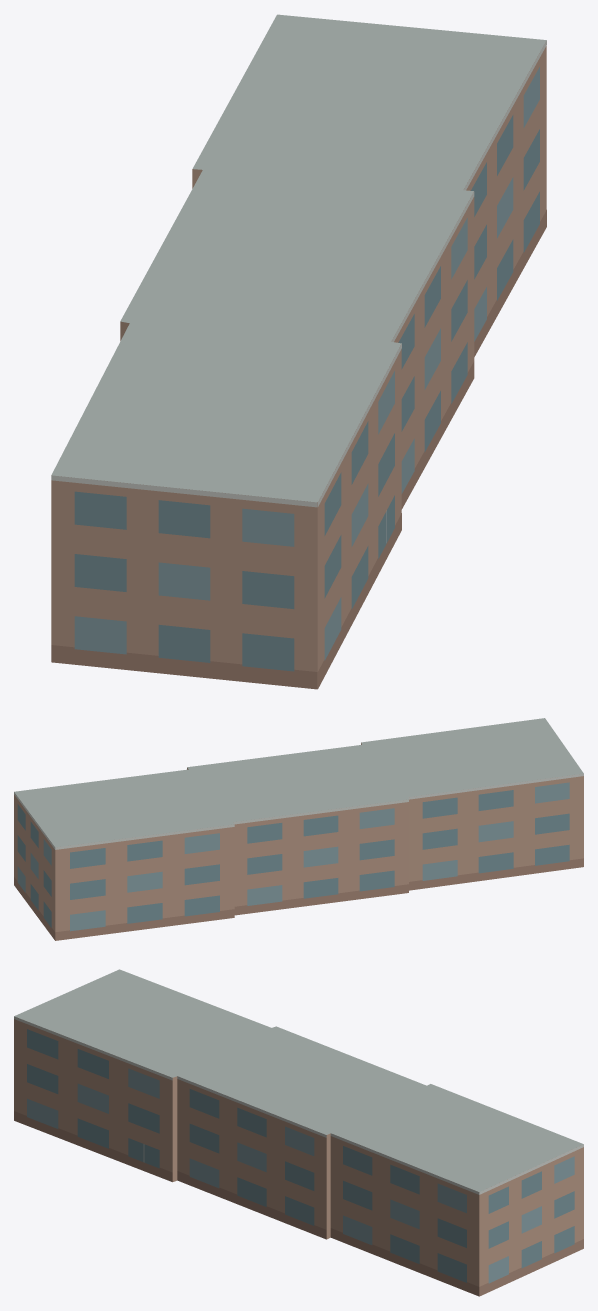
The model's file is survey-upis-32662381.glb.
3 views of the same model, one above another, from view 1: azimuth 30°, elevation 25°; view 2: azimuth 150°, elevation 25°; view 3: azimuth 270°, elevation 25° (orthographic). The views are drawn at different scales.
Parts seen in each view (by area): view 1: survey-upis-32662381.tmp; view 2: survey-upis-32662381.tmp; view 3: survey-upis-32662381.tmp.
Part boxes in pixels (box(x1,y1,x2,y2)): survey-upis-32662381.tmp: box(51, 14, 546, 689); survey-upis-32662381.tmp: box(14, 718, 583, 940); survey-upis-32662381.tmp: box(14, 969, 583, 1296).
Bounding box in the file's own units: 41.89 × 9.15 × 45.27.
